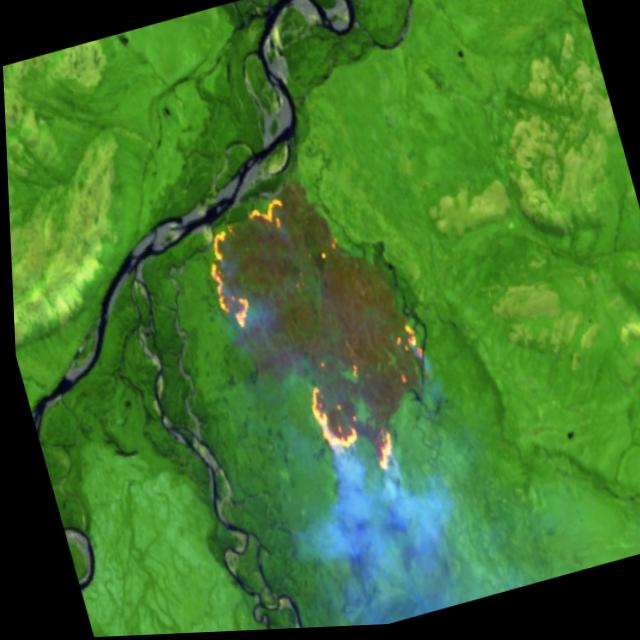fire: (188, 165, 450, 514)
